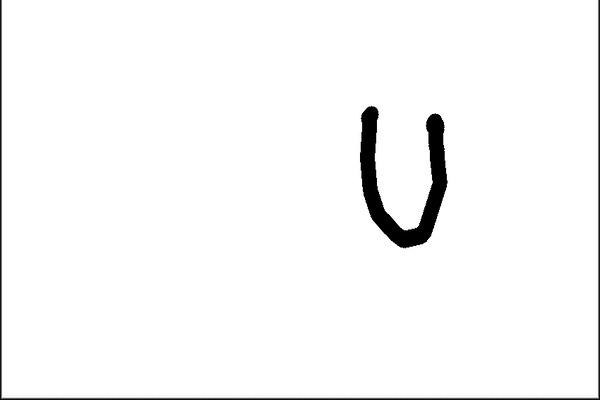U: (348, 89, 462, 253)
